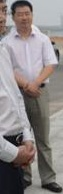boots: (0, 188, 21, 194), (23, 190, 34, 194)
